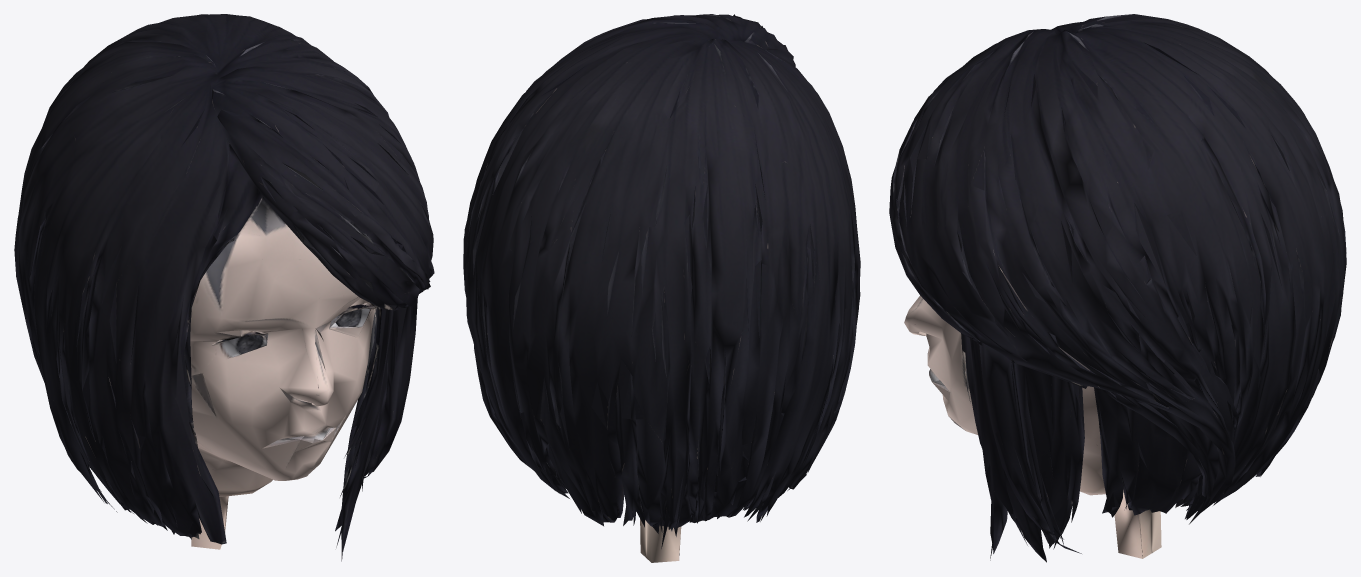
File: hair_01.glb
The picture shows the model from 3 angles, left to right: view 1: azimuth 30°, elevation 25°; view 2: azimuth 150°, elevation 25°; view 3: azimuth 270°, elevation 25°; orthographic projection.
Parts seen in each view (by area): view 1: mesh_node; view 2: mesh_node; view 3: mesh_node.
Part boxes in pixels (x1,y1,x2,y2): mesh_node: (14,14,434,561); mesh_node: (463,14,860,562); mesh_node: (889,14,1346,562).
Bounding box in the file's own units: 0.1654 × 0.24 × 0.1904.
1 material, 1 textured.
